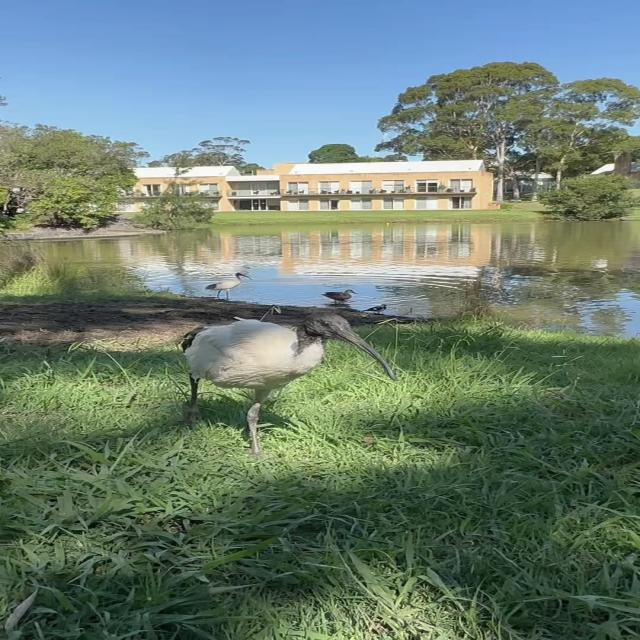Birds-Ibis: (176, 309, 402, 463), (204, 270, 256, 302)
Birds-Other: (320, 288, 360, 308), (364, 301, 390, 320)
